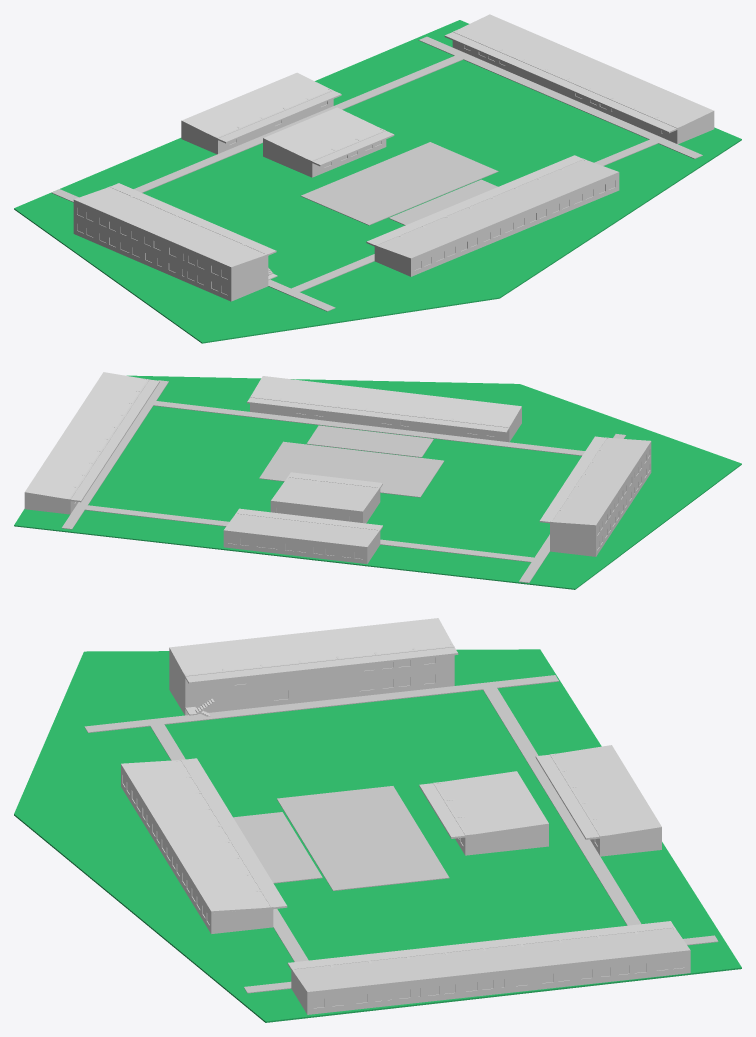
Rendered from pabellon.gltf.
The picture shows the model from 3 angles, top to bottom: view 1: azimuth 30°, elevation 25°; view 2: azimuth 150°, elevation 25°; view 3: azimuth 270°, elevation 25°; orthographic projection. The views are drawn at different scales.
Parts seen in each view (by area): view 1: Terreno Real (PolÃgono), Techo Especial Z1 Secundaria - Nivel 1, Techo Especial Z1 Inicial - Nivel 1, Losa Deportiva, Techo Especial Z1 Primaria - Nivel 2, Techo Especial Z1 Admin - Nivel 1, Techo Especial Z1 SUM - Nivel 1, Muros Inicial - Nivel 1, Muros Primaria - Nivel 2, Muros Primaria - Nivel 1, Pasadizo Secundaria, Pasadizo Admin (+7 smaller); view 2: Terreno Real (PolÃgono), Techo Especial Z1 Inicial - Nivel 1, Techo Especial Z1 Secundaria - Nivel 1, Losa Deportiva, Techo Especial Z1 Primaria - Nivel 2, Techo Especial Z1 Admin - Nivel 1, Techo Especial Z1 SUM - Nivel 1, Pasadizo Inicial, Patio Inicial, Muros Inicial - Nivel 1, Pasadizo Admin, Muros Admin - Nivel 1 (+10 smaller); view 3: Terreno Real (PolÃgono), Techo Especial Z1 Secundaria - Nivel 1, Techo Especial Z1 Inicial - Nivel 1, Losa Deportiva, Techo Especial Z1 Primaria - Nivel 2, Techo Especial Z1 Admin - Nivel 1, Techo Especial Z1 SUM - Nivel 1, Muros Secundaria - Nivel 1, Muros Primaria - Nivel 1, Pasadizo Primaria, Patio Inicial, Pasadizo Admin (+9 smaller).
Part boxes in pixels (x1=…): Terreno Real (PolÃgono): x1=14, y1=20, x2=741, y2=343; Techo Especial Z1 Secundaria - Nivel 1: x1=444, y1=14, x2=714, y2=133; Techo Especial Z1 Inicial - Nivel 1: x1=366, y1=155, x2=619, y2=261; Losa Deportiva: x1=301, y1=142, x2=498, y2=225; Techo Especial Z1 Primaria - Nivel 2: x1=73, y1=183, x2=276, y2=270; Techo Especial Z1 Admin - Nivel 1: x1=181, y1=72, x2=341, y2=143; Techo Especial Z1 SUM - Nivel 1: x1=263, y1=107, x2=394, y2=166; Muros Inicial - Nivel 1: x1=376, y1=176, x2=617, y2=276; Muros Primaria - Nivel 2: x1=75, y1=204, x2=266, y2=285; Muros Primaria - Nivel 1: x1=75, y1=220, x2=266, y2=300; Pasadizo Secundaria: x1=418, y1=36, x2=702, y2=158; Pasadizo Admin: x1=134, y1=55, x2=463, y2=192; Terreno Real (PolÃgono): x1=14, y1=375, x2=741, y2=589; Techo Especial Z1 Inicial - Nivel 1: x1=247, y1=376, x2=521, y2=433; Techo Especial Z1 Secundaria - Nivel 1: x1=24, y1=372, x2=159, y2=502; Losa Deportiva: x1=259, y1=441, x2=444, y2=497; Techo Especial Z1 Primaria - Nivel 2: x1=539, y1=436, x2=651, y2=528; Techo Especial Z1 Admin - Nivel 1: x1=223, y1=508, x2=382, y2=550; Techo Especial Z1 SUM - Nivel 1: x1=270, y1=472, x2=382, y2=514; Pasadizo Inicial: x1=153, y1=401, x2=584, y2=455; Patio Inicial: x1=306, y1=425, x2=433, y2=457; Muros Inicial - Nivel 1: x1=251, y1=404, x2=521, y2=441; Pasadizo Admin: x1=85, y1=505, x2=533, y2=562; Muros Admin - Nivel 1: x1=225, y1=532, x2=379, y2=563; Terreno Real (PolÃgono): x1=14, y1=649, x2=741, y2=1022; Techo Especial Z1 Secundaria - Nivel 1: x1=287, y1=921, x2=690, y2=996; Techo Especial Z1 Inicial - Nivel 1: x1=121, y1=758, x2=287, y2=915; Losa Deportiva: x1=277, y1=786, x2=449, y2=890; Techo Especial Z1 Primaria - Nivel 2: x1=169, y1=618, x2=458, y2=684; Techo Especial Z1 Admin - Nivel 1: x1=535, y1=745, x2=661, y2=839; Techo Especial Z1 SUM - Nivel 1: x1=419, y1=771, x2=548, y2=838; Muros Secundaria - Nivel 1: x1=292, y1=955, x2=688, y2=1014; Muros Primaria - Nivel 1: x1=170, y1=669, x2=452, y2=714; Pasadizo Primaria: x1=84, y1=675, x2=558, y2=732; Patio Inicial: x1=233, y1=812, x2=322, y2=883; Pasadizo Admin: x1=483, y1=687, x2=641, y2=925.
Size of the model in its own units: 110 by 6.2 by 90.79.
